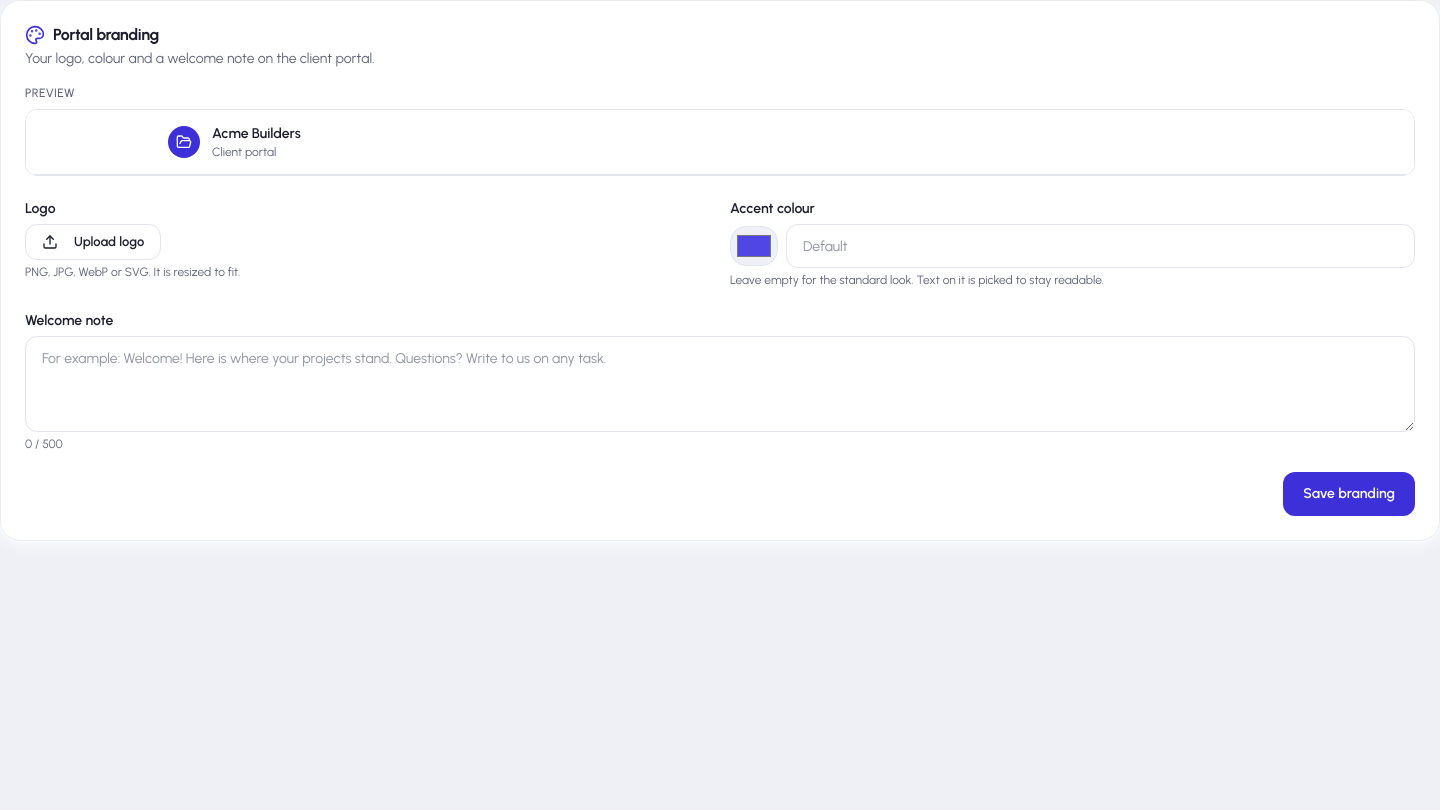
PortalBrandingCard › a colour that is not a colour is caught next to the field
Expected: the text "Acme Builders" is shown, [212,124,301,144]
Type "teal" into the field labelled "Accent colour". click: (1100, 246)
box: [786,224,1415,268]
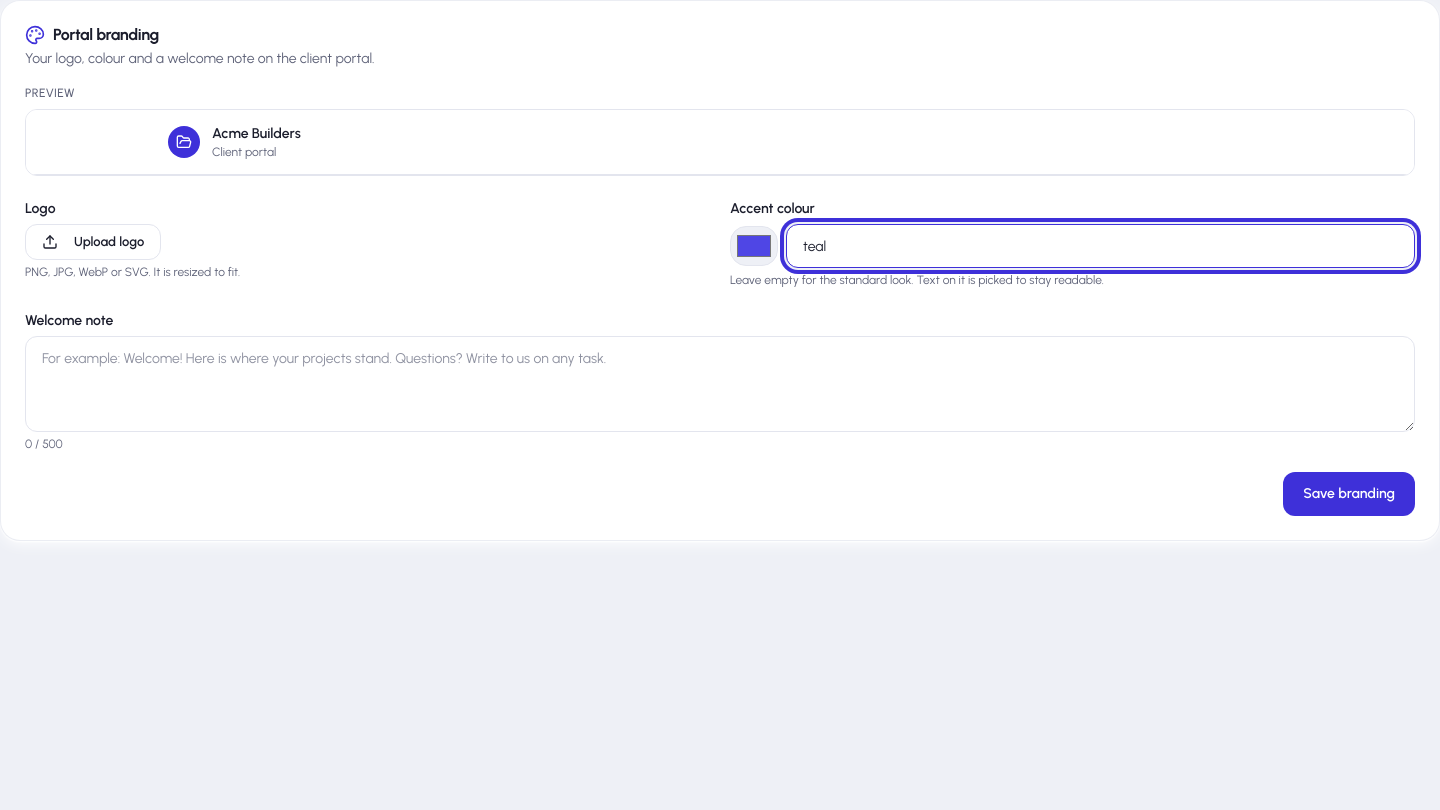
Click the button "Save branding". click: click(1349, 494)
box: [1283,472,1415,516]
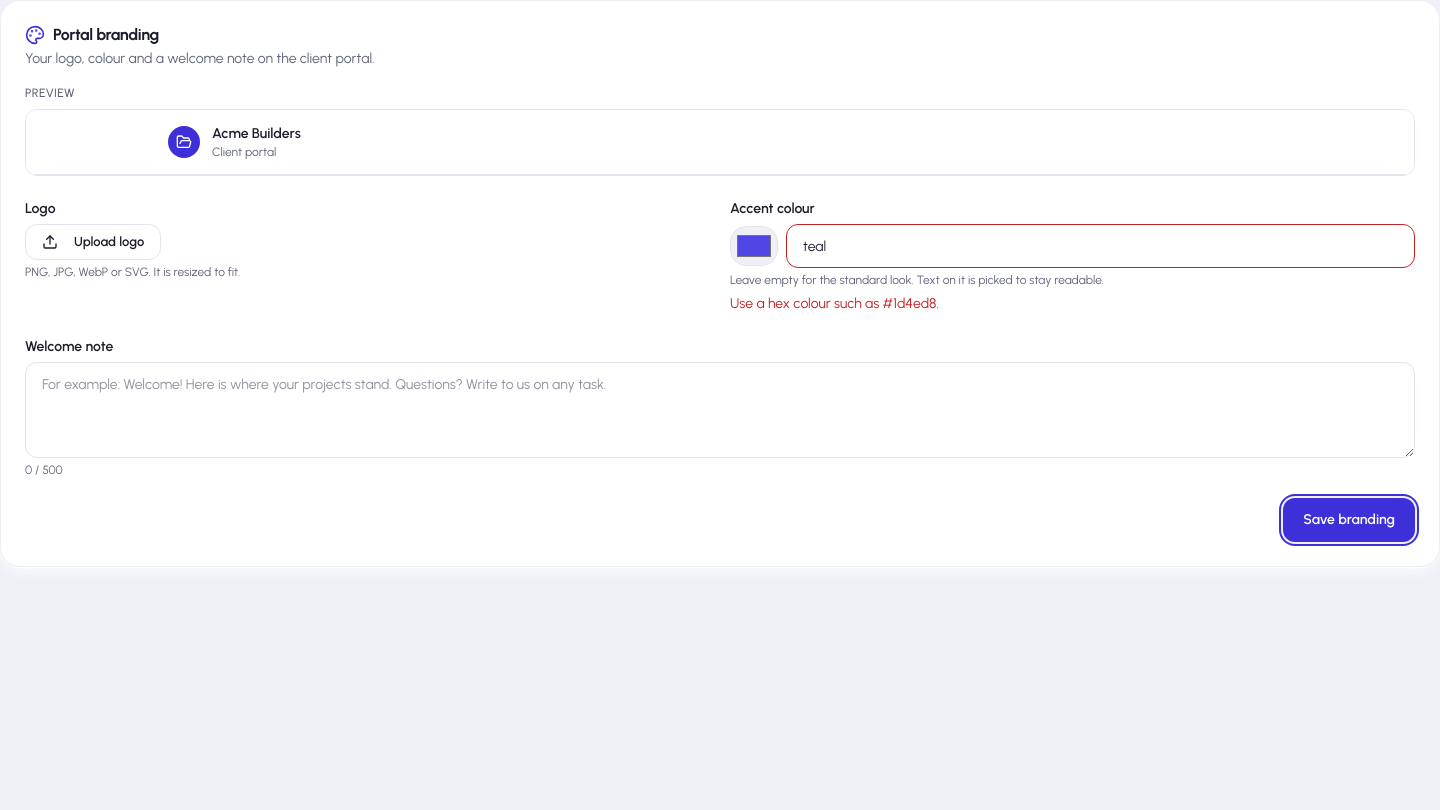
Result: the text "Use a hex colour such as #1d4ed8." is shown at [730,295,939,312]
